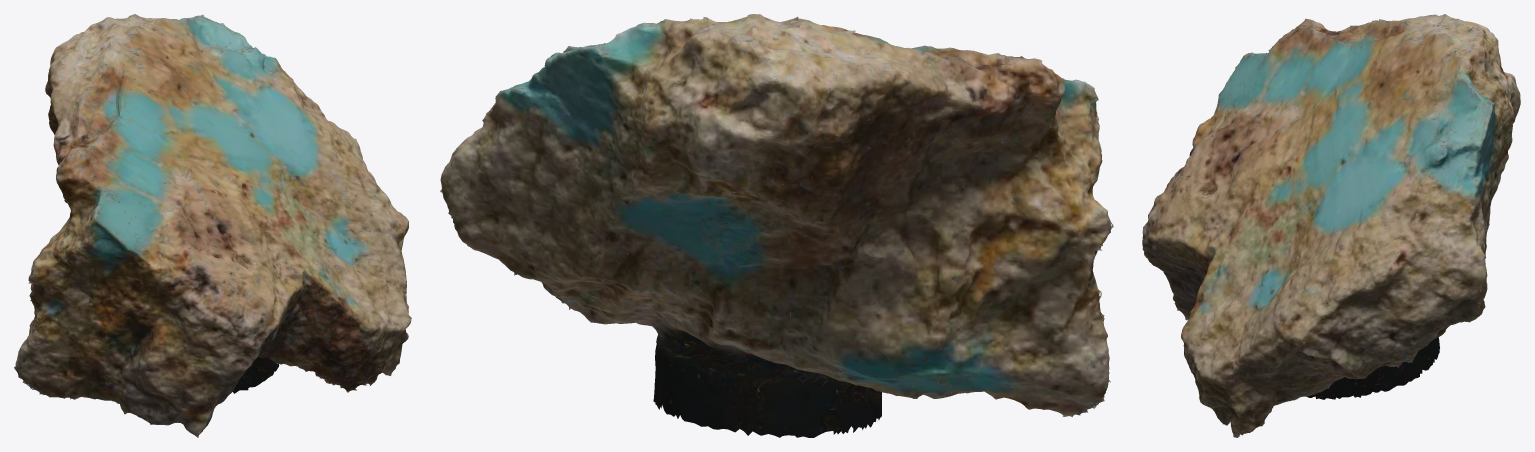
File: schuetze-tuerkis.glb
3 views of the same model, side by side, from view 1: azimuth 30°, elevation 25°; view 2: azimuth 150°, elevation 25°; view 3: azimuth 270°, elevation 25° (orthographic). The views are drawn at different scales.
Parts seen in each view (by area): view 1: Object_2; view 2: Object_2; view 3: Object_2.
Part boxes in pixels (x1,y1,x2,y2): Object_2: (14, 14, 411, 437); Object_2: (440, 14, 1113, 437); Object_2: (1142, 14, 1520, 437).
Bounding box in the file's own units: 2.75 × 2.13 × 2.24.
Materials: 1 (1 with a texture image).
